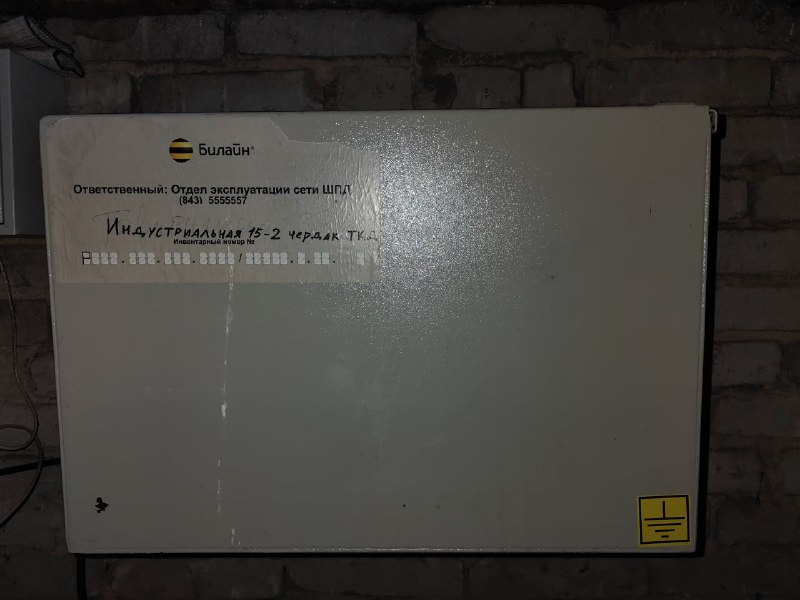sv-5: (31, 101, 717, 563)
